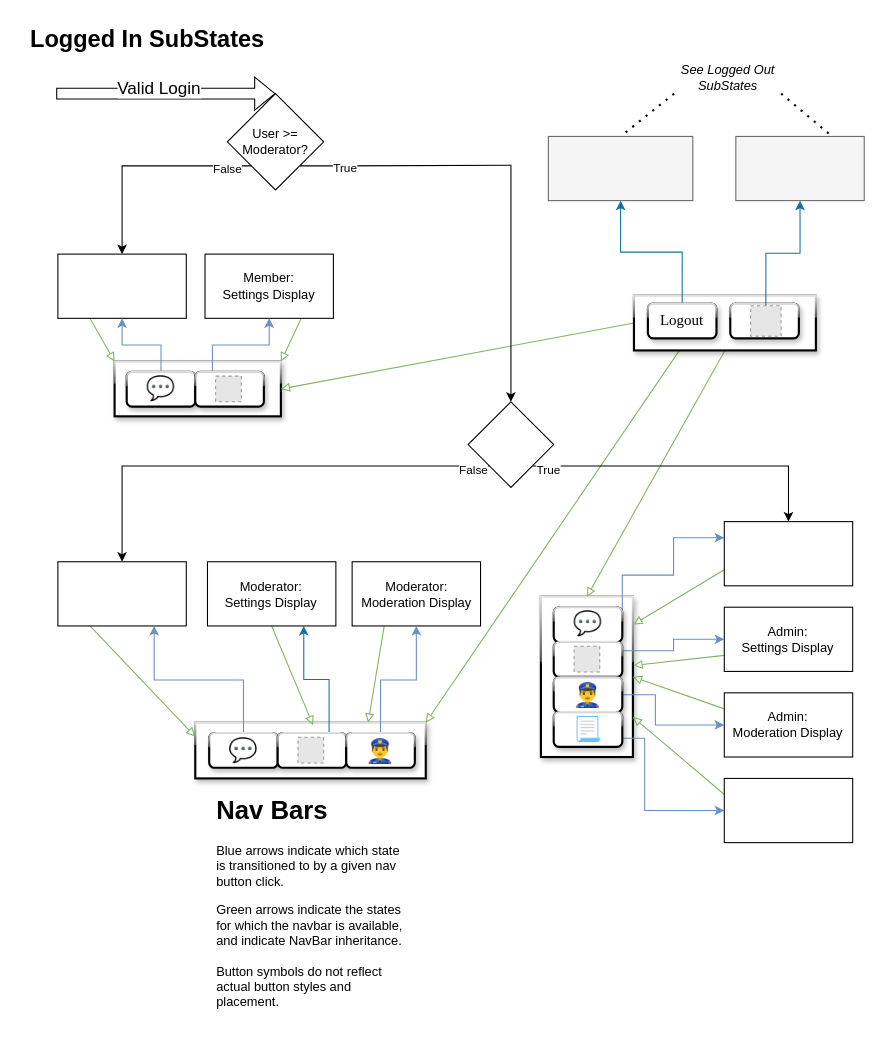
This 883x1050 diagram has some shape labels left out. Grey dashed boxes stand in for pictures. Here are the shapes that lost their labels. From the top down, the centre of each, then its label:
At pixel 620 168: "Logged Out a.k.a. Comments Display".
At pixel 799 168: "Inactive".
At pixel 121 285: "Member: Comments Display".
At pixel 510 444: "User is Admin?".
At pixel 788 553: "Admin: Comments Display".
At pixel 121 593: "Moderator: Comments Display".
At pixel 788 810: "Admin: Reports Display".
